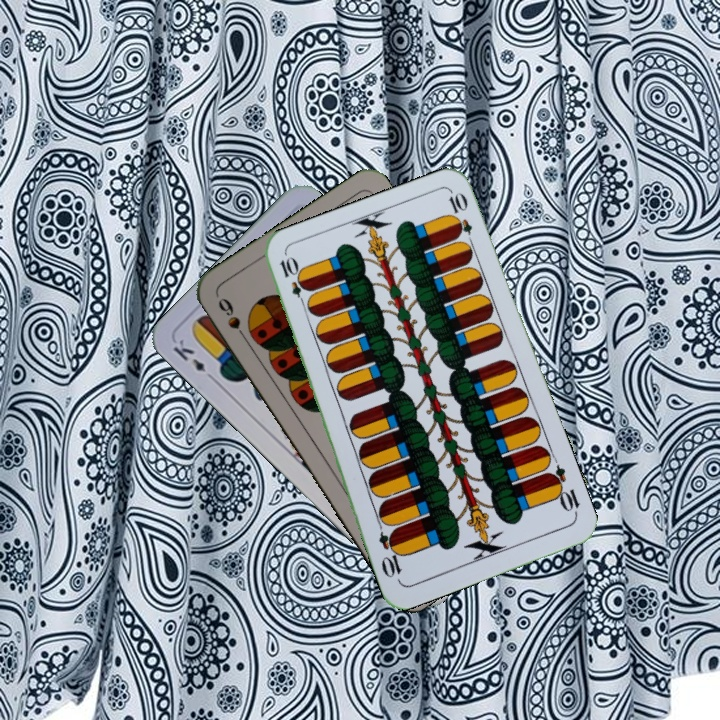E10: (543, 461, 583, 518), (275, 253, 311, 310)
EK: (169, 335, 218, 384)
S9: (213, 293, 252, 346)
